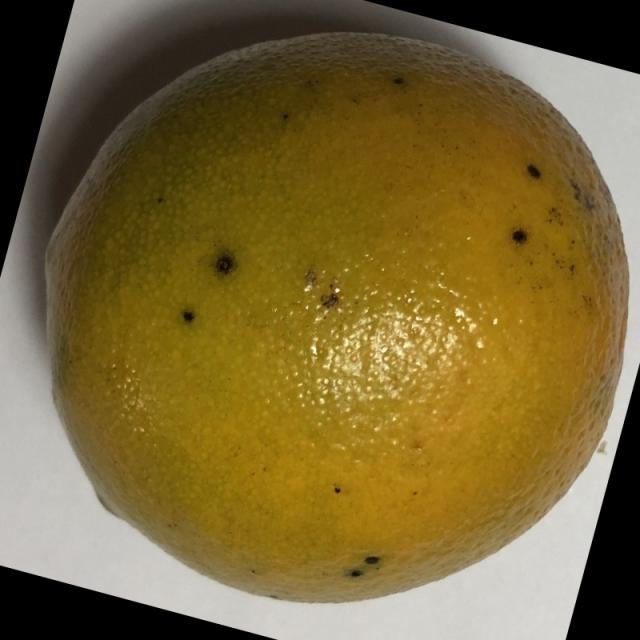black spot: (32, 16, 637, 609)
